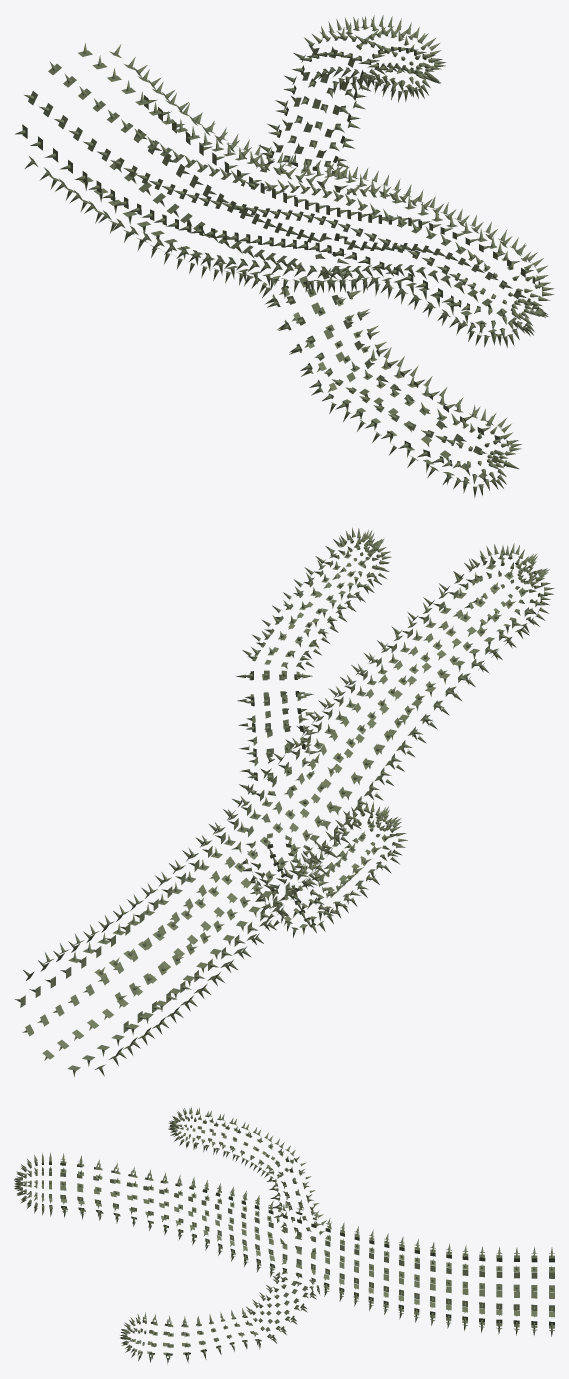
Rendered from epine.obj.
3 views of the same model, one above another, from view 1: azimuth 30°, elevation 25°; view 2: azimuth 150°, elevation 25°; view 3: azimuth 270°, elevation 25° (orthographic). The views are drawn at different scales.
Visible parts, largest first — view 1: Cone, Tube.001; view 2: Tube.001, Cone; view 3: Tube.001, Cone.
Part boxes in pixels (bbox=[...]): Cone: bbox=[15, 15, 554, 498]; Tube.001: bbox=[22, 26, 542, 486]; Tube.001: bbox=[20, 537, 544, 1070]; Cone: bbox=[14, 527, 554, 1076]; Tube.001: bbox=[22, 1113, 554, 1356]; Cone: bbox=[14, 1107, 552, 1364].
Bounding box in the file's own units: 0.8165 × 2.04 × 4.06.
